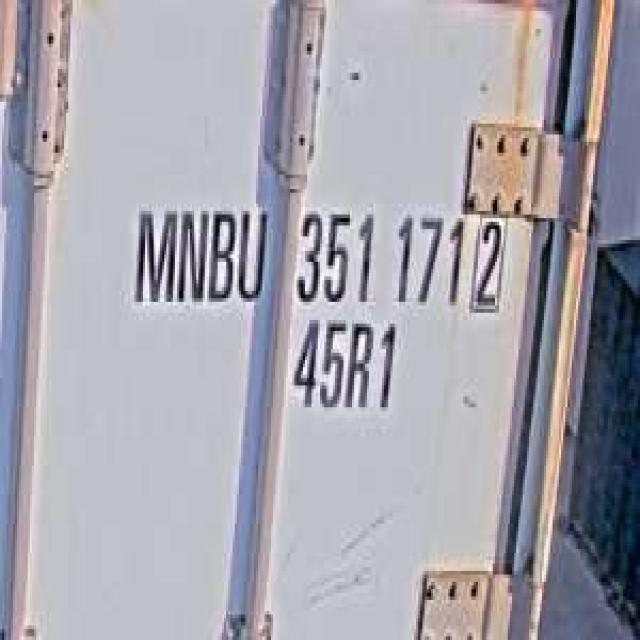dv: (467, 207, 510, 320)
owner: (126, 189, 271, 316)
serial: (290, 192, 467, 312)
size: (286, 313, 403, 422)
